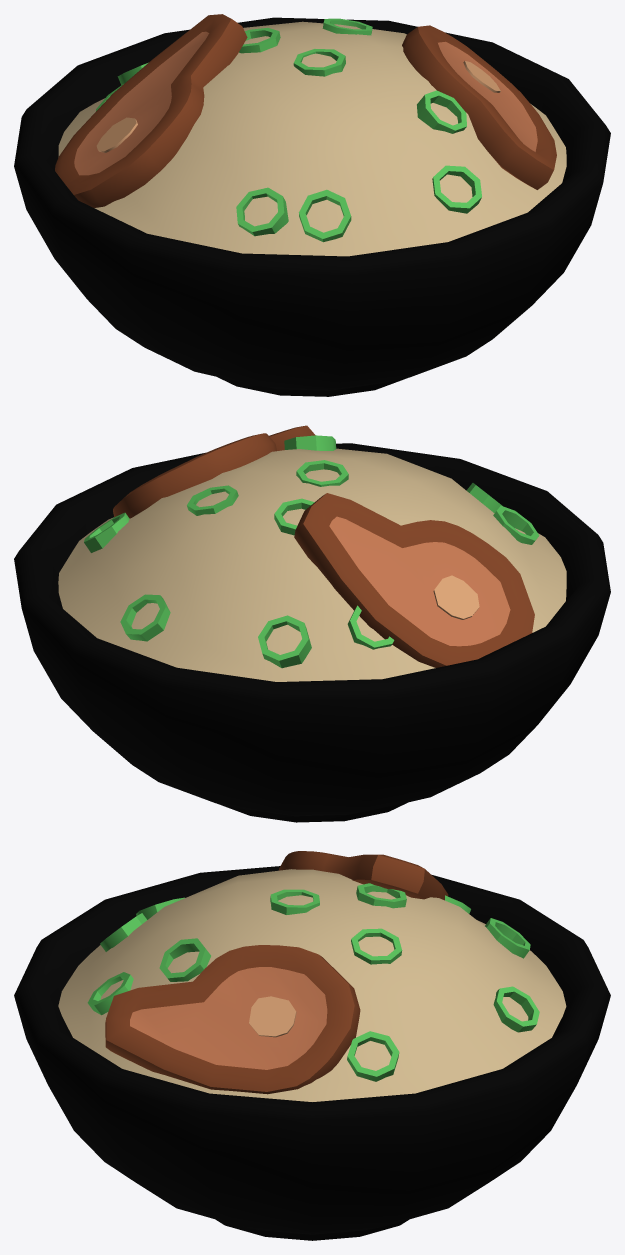
The model's file is ASFTR_Bowl_RiceHumanOnion.fbx.
The picture shows the model from 3 angles, top to bottom: view 1: azimuth 30°, elevation 25°; view 2: azimuth 150°, elevation 25°; view 3: azimuth 270°, elevation 25°; orthographic projection.
Visible parts, largest first — view 1: ASFTR_Bowl_RiceHumanOnion; view 2: ASFTR_Bowl_RiceHumanOnion; view 3: ASFTR_Bowl_RiceHumanOnion.
Part boxes in pixels (x1,y1,x2,y2): ASFTR_Bowl_RiceHumanOnion: (14, 14, 610, 396); ASFTR_Bowl_RiceHumanOnion: (14, 425, 610, 822); ASFTR_Bowl_RiceHumanOnion: (14, 851, 610, 1240).
Bounding box in the file's own units: 60.78 × 34.88 × 60.78.
